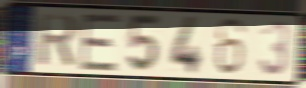3: (258, 18, 290, 79)
4: (169, 14, 204, 77)
5: (128, 13, 163, 75)
6: (214, 16, 248, 78)
E: (78, 13, 124, 73)
R: (36, 13, 79, 70)
